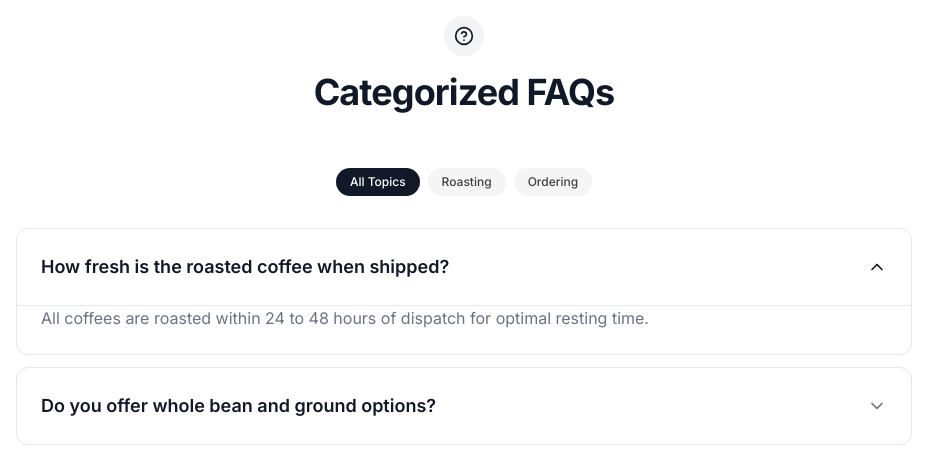
Test case: Milestone 3 Reusable Section Library & SectionRenderer › FaqAccordion › filters questions by category pill
Click the button "Roasting". click: (467, 182)
box: 428,168 -> 506,196
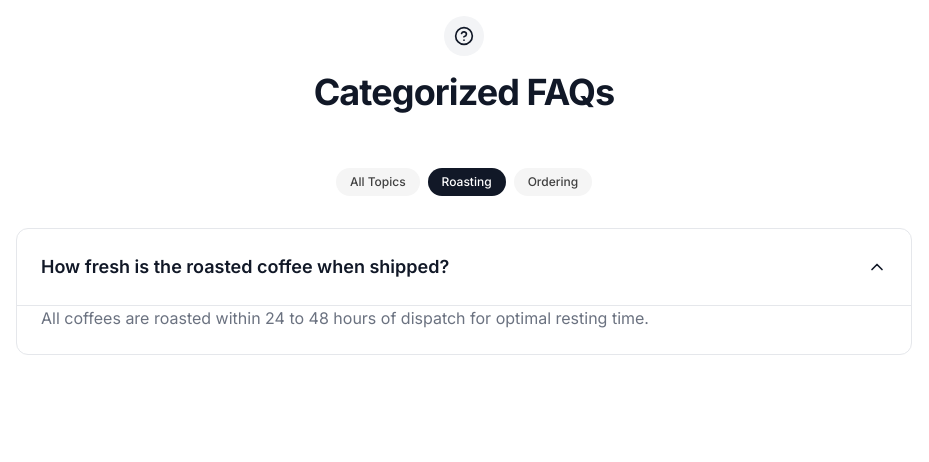
Check: the text "How fresh is the roasted coffee when shipped?" is shown, box 41,253 -> 465,281
Check: the button "Do you offer whole bean and ground options?" is gone
